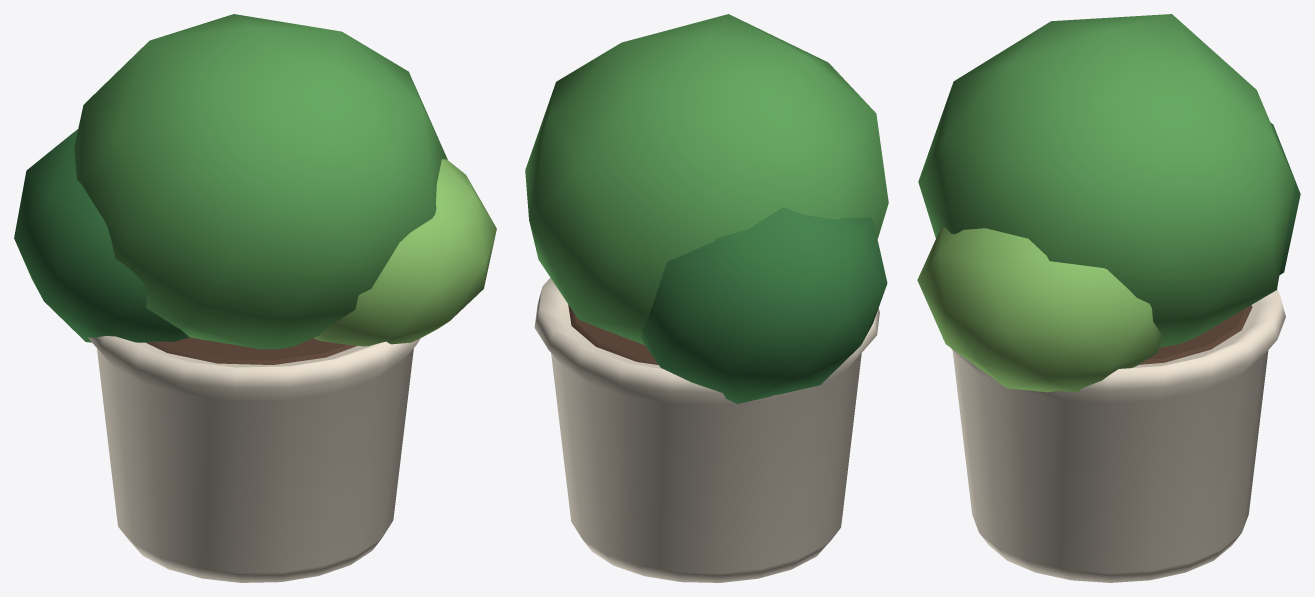
Rendered from plant_small.glb.
3 renders of one model, left to right at view 1: azimuth 30°, elevation 25°; view 2: azimuth 150°, elevation 25°; view 3: azimuth 270°, elevation 25°, orthographic. The views are drawn at different scales.
Parts seen in each view (by area): view 1: plant_small; view 2: plant_small; view 3: plant_small.
Part boxes in pixels (x1=…): plant_small: x1=14, y1=14, x2=496, y2=582; plant_small: x1=525, y1=14, x2=888, y2=582; plant_small: x1=917, y1=14, x2=1300, y2=582.
Bounding box in the file's own units: 0.4108 × 0.5152 × 0.3603.
